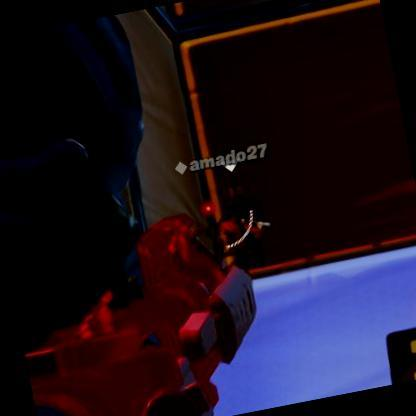person: (221, 183, 270, 262)
